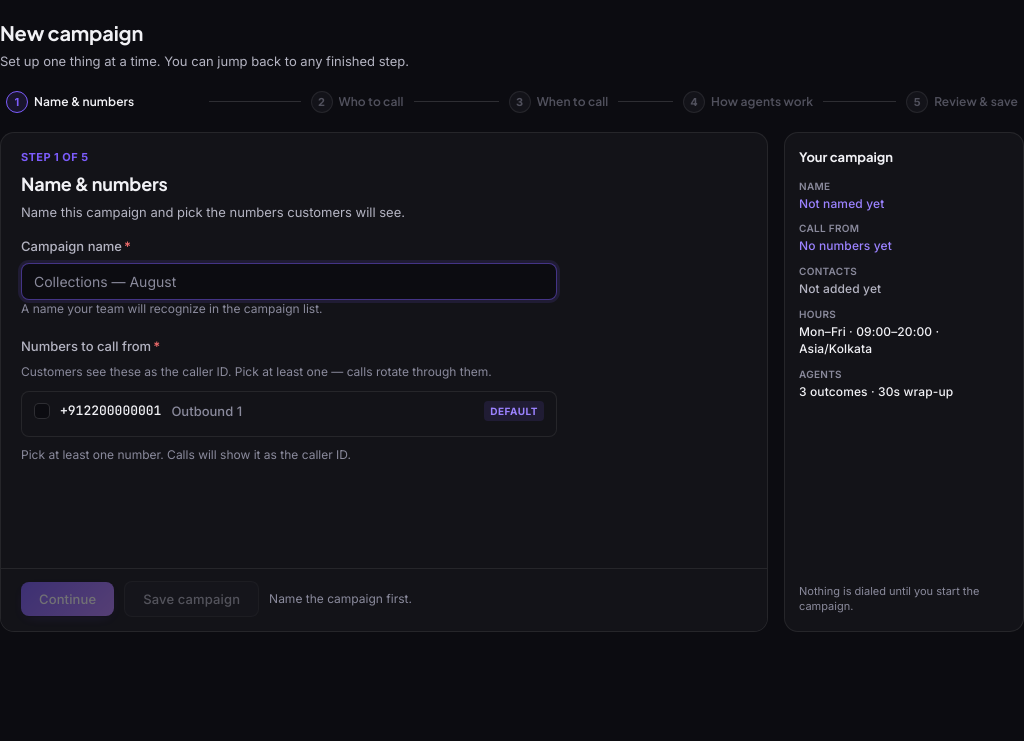
Test case: the disposition catalog editor › shows a built-in code as a locked chip rather than a text box that refuses typing
In the field labelled "Campaign name*": x=289, y=281 [21,263,557,300], type "Collections"
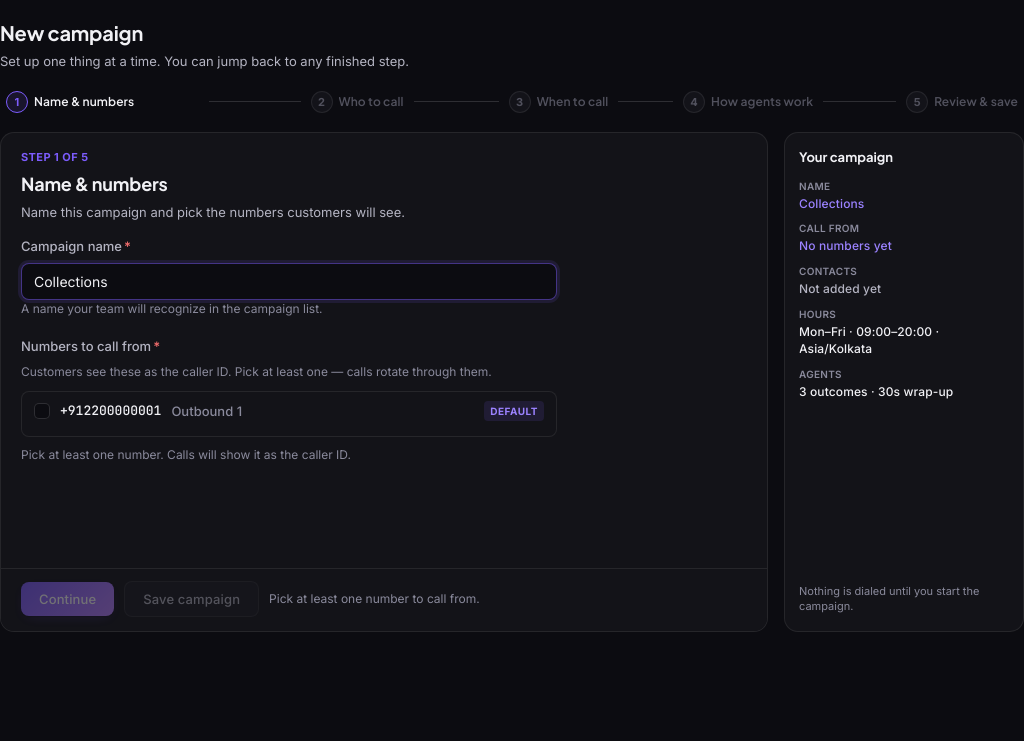
Click the checkbox labelled "+912200000001 Outbound 1 Default": x=42, y=411 [34,403,50,419]
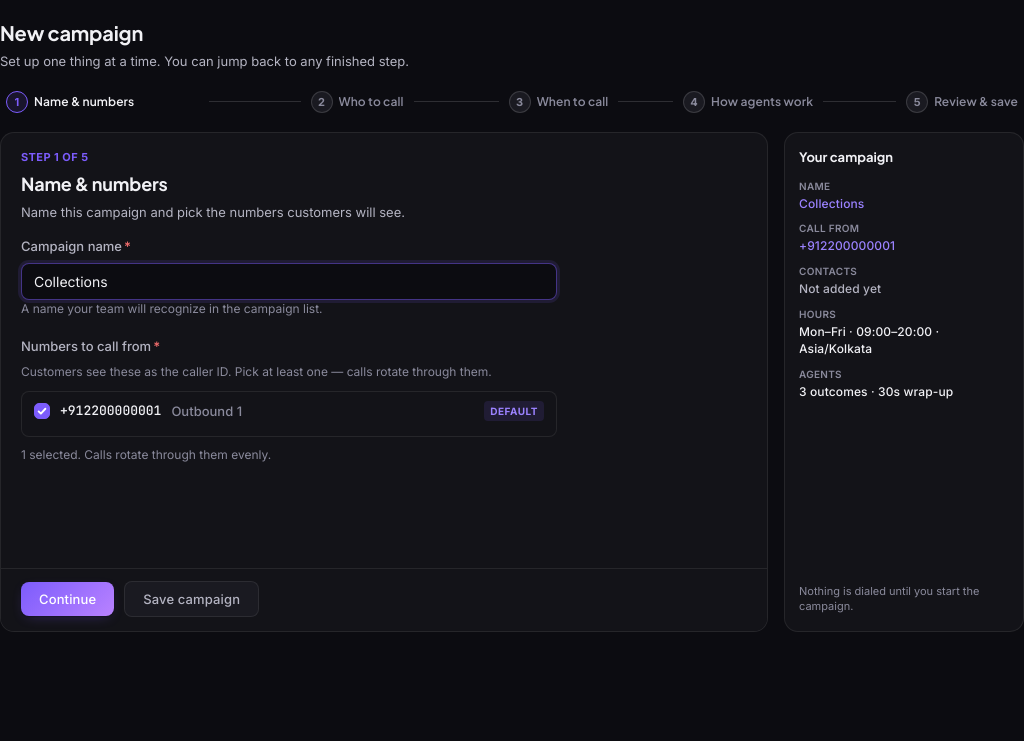
Click the button "4 How agents work": x=748, y=102 [677,86,819,118]
(page scrolled)
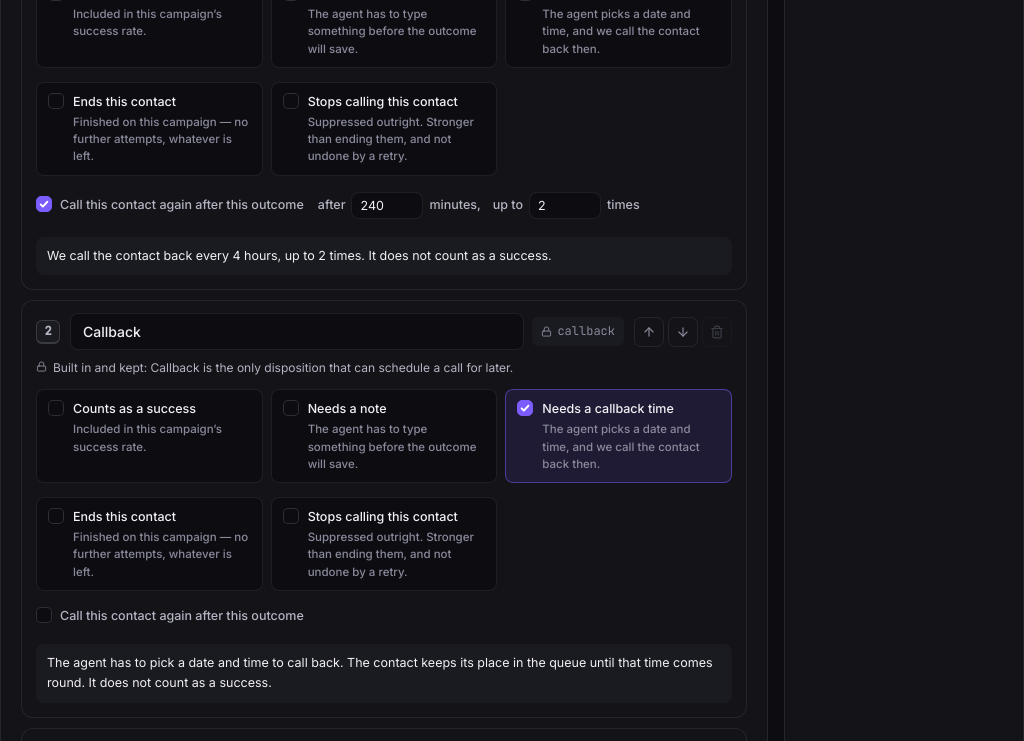
expect the element with test id "lock-callback" shows "schedule a call for later": met, box [151,360,513,375]
